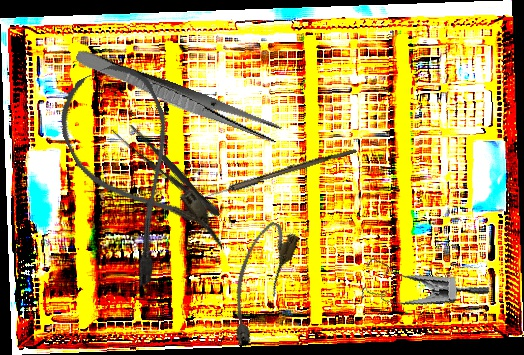Cannula: (44, 53, 227, 290), (214, 217, 302, 351)
Dressing Forceps: (72, 46, 283, 146), (108, 116, 227, 224)
Speculum: (352, 233, 492, 324)
Surgical Spoon: (185, 144, 357, 208)
